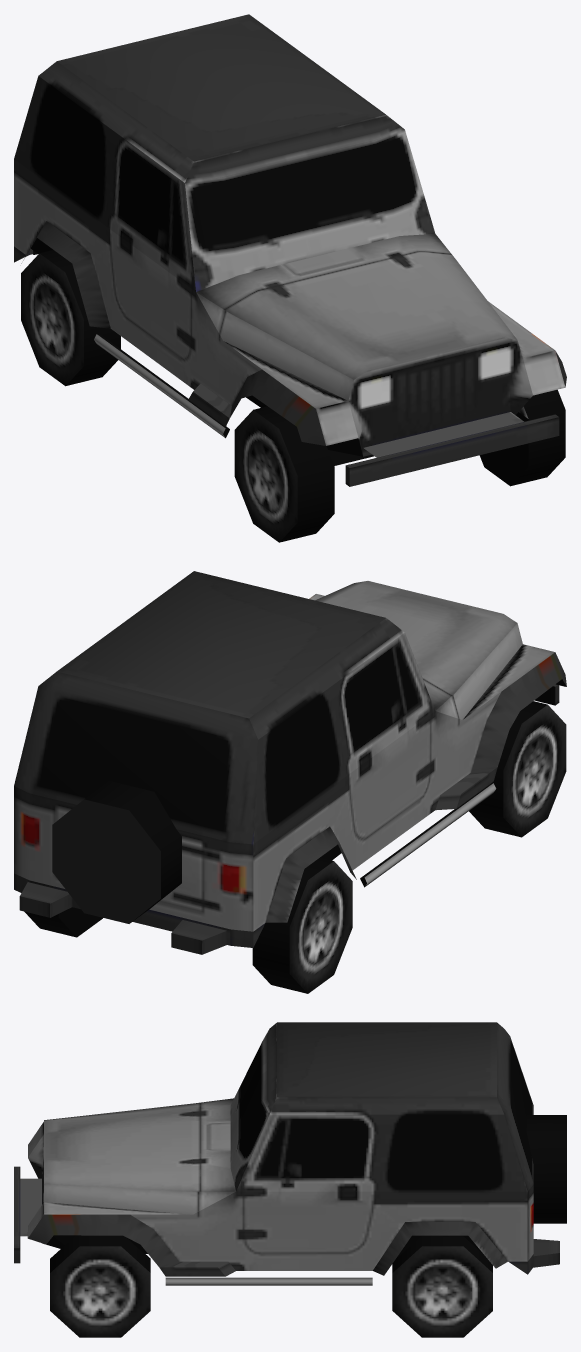
File: Car_JeepWrangler.fbx
3 renders of one model, top to bottom at view 1: azimuth 30°, elevation 25°; view 2: azimuth 150°, elevation 25°; view 3: azimuth 270°, elevation 25°, orthographic. The views are drawn at different scales.
Visible parts, largest first — view 1: Car_JeepWrangler; view 2: Car_JeepWrangler; view 3: Car_JeepWrangler.
Part boxes in pixels (box(x1,y1,x2,y2)): Car_JeepWrangler: box(14, 14, 566, 542); Car_JeepWrangler: box(14, 571, 566, 993); Car_JeepWrangler: box(14, 1022, 566, 1337).
Size of the model in its own units: 1.76 by 1.73 by 3.85.
